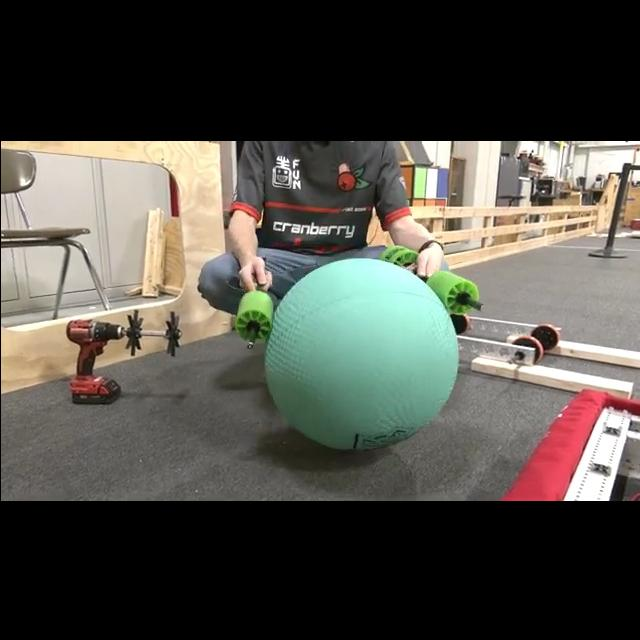ALGAE: (261, 255, 459, 450)
